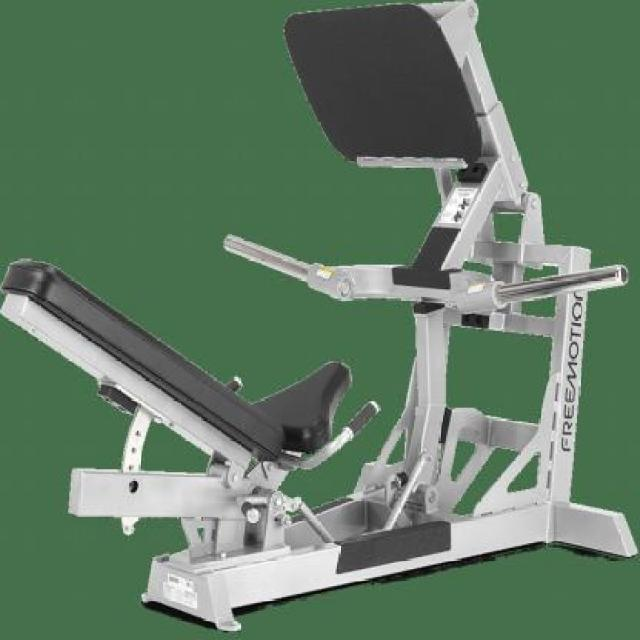leg press: (0, 4, 627, 640)
